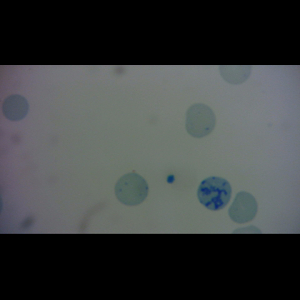aggregate reticulocyte: (196, 175, 234, 211)
erythrocyte: (226, 190, 259, 225), (1, 93, 30, 122)
punctate reticulocyte: (114, 172, 149, 207), (184, 102, 217, 139)
